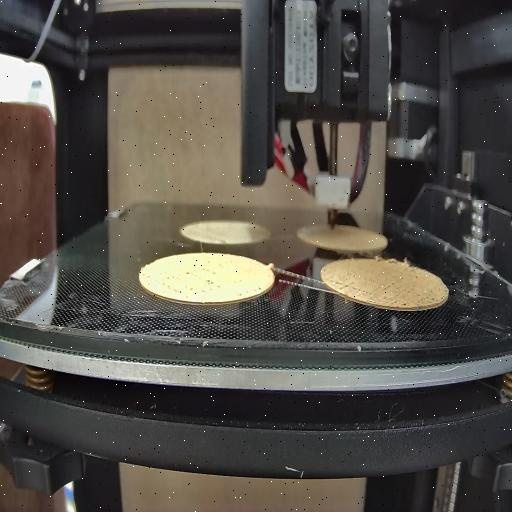under_extrusion: (158, 260, 220, 300), (378, 273, 434, 310), (330, 278, 364, 298), (237, 283, 263, 301)
